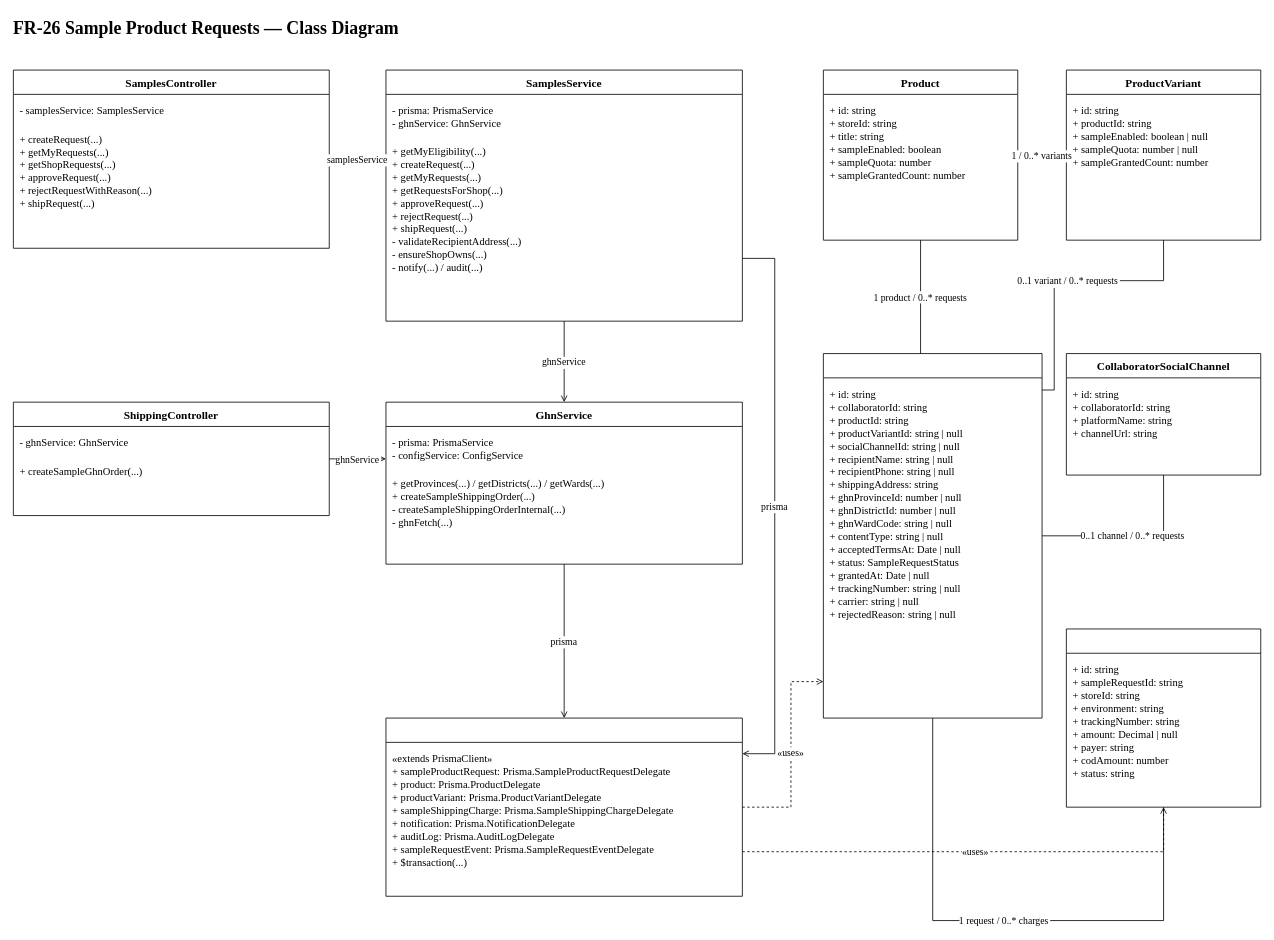
Image size: 1274x940. Some labels were removed from this diagram. The box of each missing label's shape, as (x1, y1, x2, y2) in pixels:
PrismaService: (385, 717, 742, 896)
SampleProductRequest: (823, 353, 1042, 718)
SampleShippingCharge: (1066, 628, 1261, 807)
